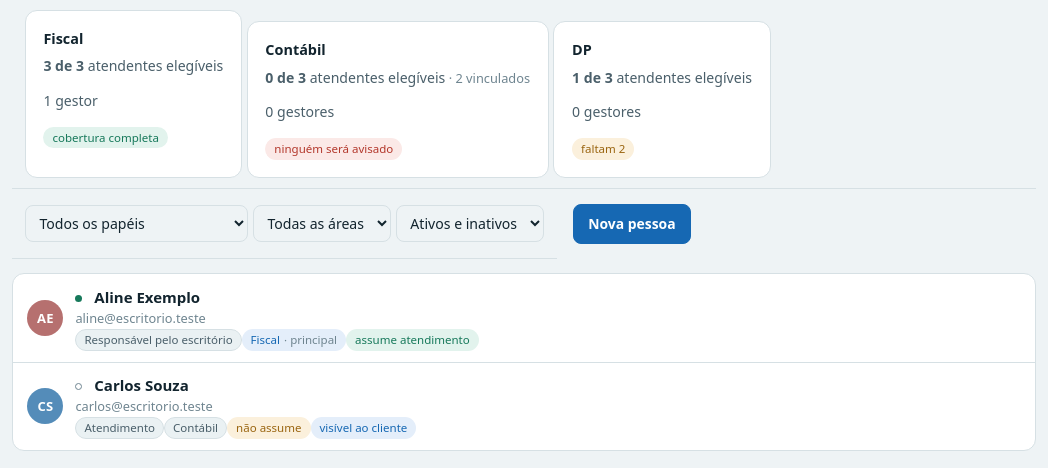
lista › filtra por papel
The width and height of the screenshot is (1048, 468).
Expected: the text "Aline Exemplo" is shown, [75, 287, 200, 307]
Select "Atendimento" in the dropdown named "Papel" at [136, 223], box [25, 205, 248, 242]
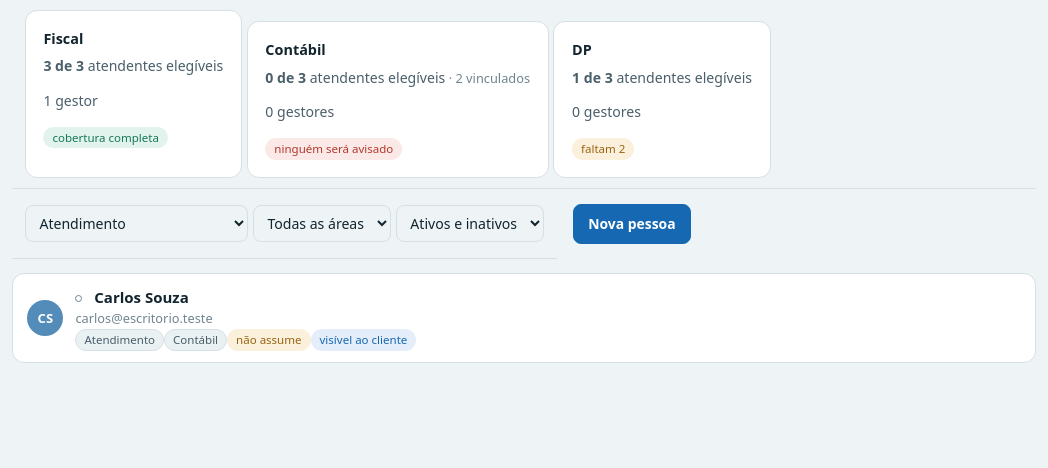
Expected: the text "Carlos Souza" is shown, [75, 287, 189, 307]
Now the button "Aline Exemplo" is gone
